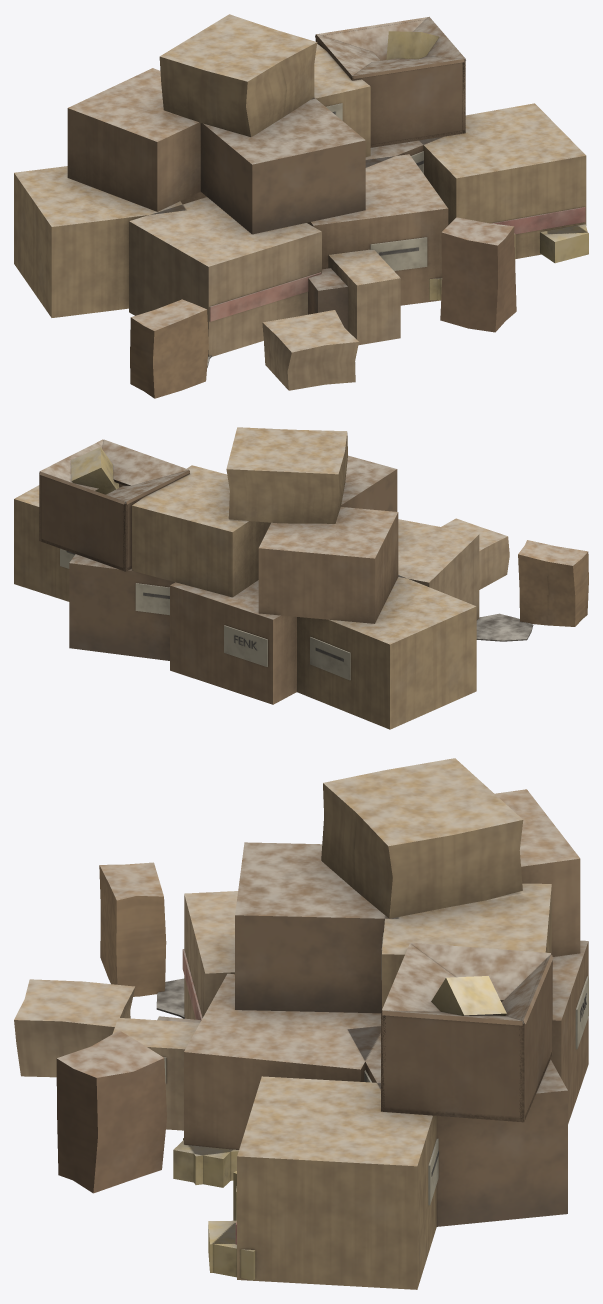
File: box_pile_big.fbx
The picture shows the model from 3 angles, top to bottom: view 1: azimuth 30°, elevation 25°; view 2: azimuth 150°, elevation 25°; view 3: azimuth 270°, elevation 25°; orthographic projection. The views are drawn at different scales.
Visible parts, largest first — view 1: Body; view 2: Body; view 3: Body.
Boxes of the visible parts, <box> form: Body: <box>14,14,588,398</box>; Body: <box>14,427,588,729</box>; Body: <box>14,758,588,1289</box>.
Size of the model in its own units: 8.66 by 3.67 by 6.33.
1 material, 1 textured.
